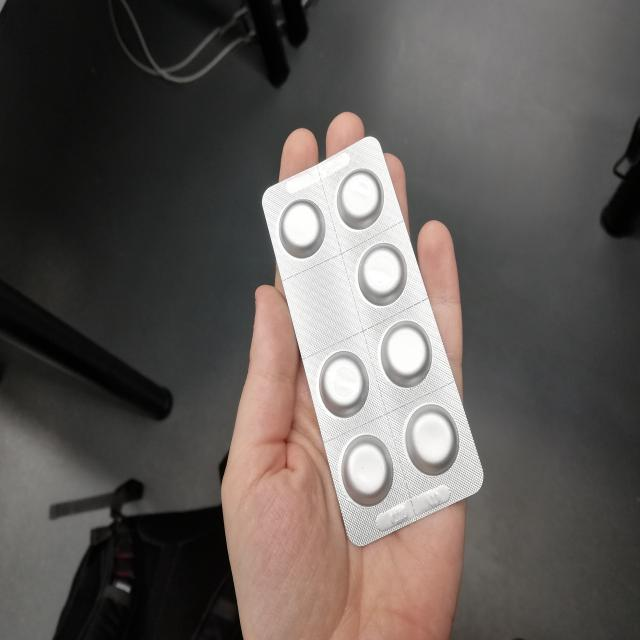Pill: (406, 396, 460, 474), (356, 235, 408, 313), (380, 317, 438, 385), (332, 160, 385, 233), (339, 435, 393, 506), (320, 342, 368, 414), (280, 198, 326, 265)
